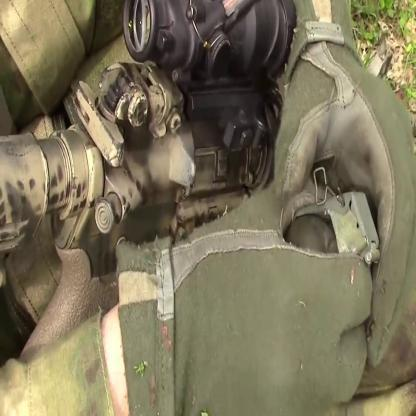Grenade: (285, 165, 382, 281)
Gun: (1, 0, 298, 371)
